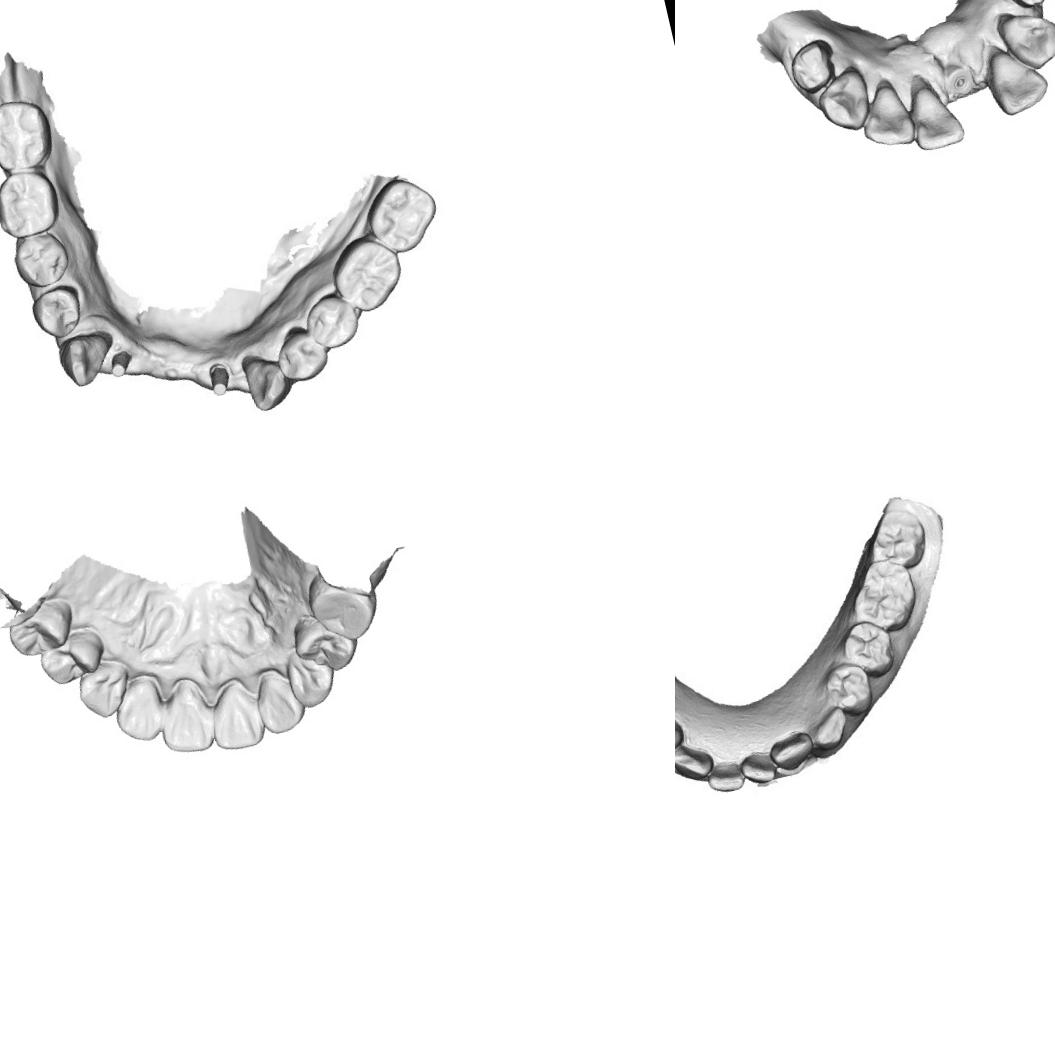abutment: (198, 354, 235, 403), (103, 346, 140, 387)
canine: (70, 659, 138, 724), (814, 68, 877, 138), (54, 326, 119, 392), (998, 0, 1055, 74), (280, 647, 341, 714), (238, 346, 294, 411), (804, 703, 855, 755), (675, 698, 690, 765)
crown: (782, 33, 842, 97), (1001, 0, 1055, 13)
implant: (941, 62, 978, 98)
incisor: (150, 674, 219, 761), (982, 39, 1053, 121), (200, 672, 268, 756), (902, 68, 966, 156), (108, 676, 170, 748), (858, 83, 918, 154), (252, 668, 308, 738), (764, 728, 819, 776), (675, 737, 718, 786), (701, 756, 750, 798), (735, 745, 780, 788)
molar: (359, 169, 448, 259), (322, 230, 405, 318), (843, 552, 924, 640), (302, 565, 385, 650), (0, 160, 68, 247), (861, 502, 934, 577), (0, 89, 58, 180)
premolar: (2, 596, 80, 663), (297, 286, 370, 356), (6, 226, 76, 298), (272, 317, 339, 392), (289, 614, 364, 679), (35, 628, 109, 690), (27, 278, 92, 344), (838, 615, 900, 683), (819, 658, 878, 722)
